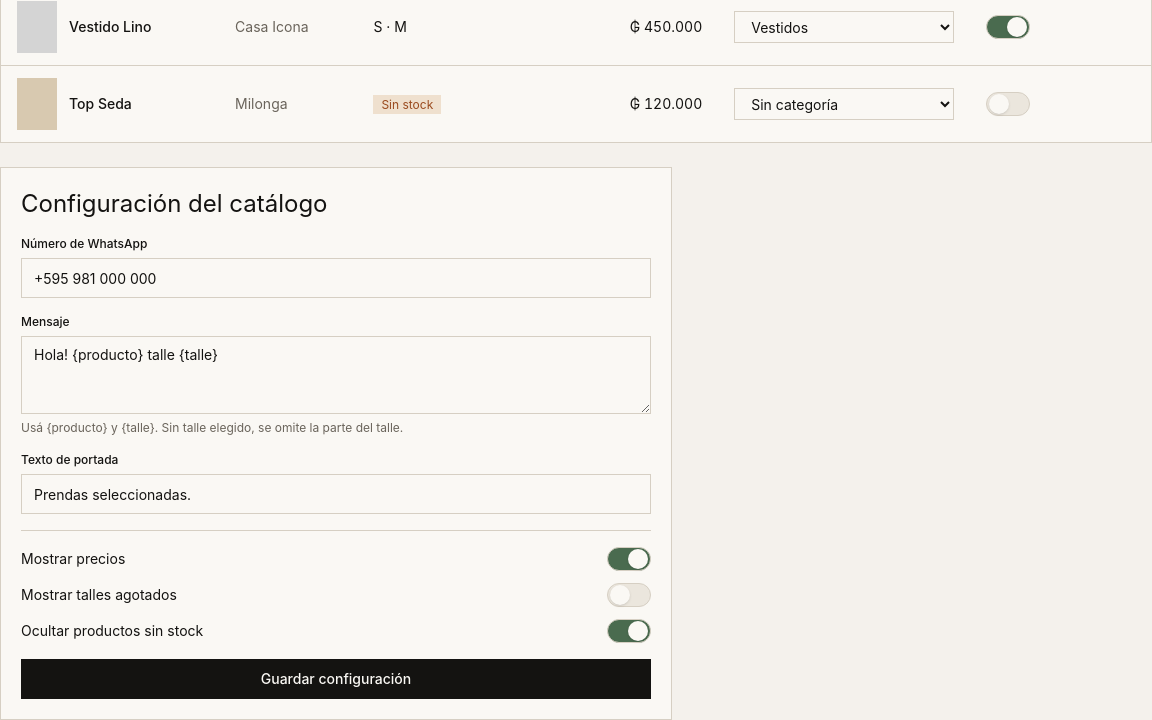
CatalogoWebView › submits the switches as form values
The image size is (1152, 720).
(page scrolled)
Click the switch named "Mostrar talles agotados". click: (629, 595)
box: [607,583,651,607]
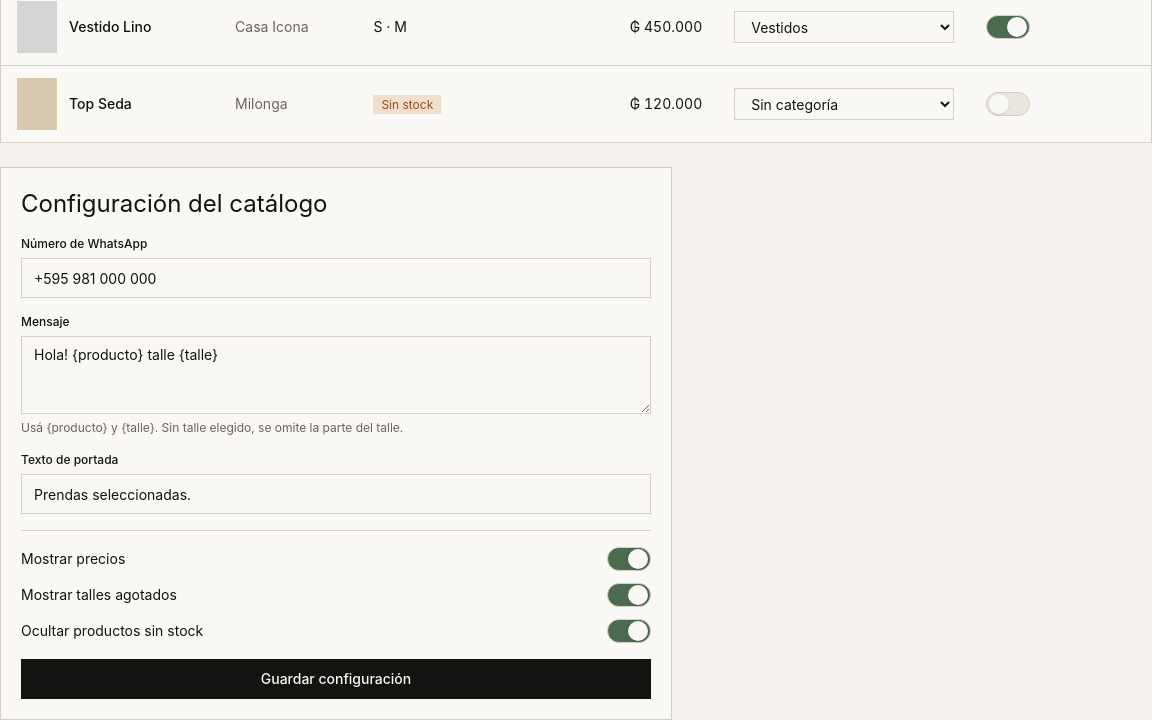
Click the switch named "Mostrar precios". click: (629, 559)
box: [607,547,651,571]
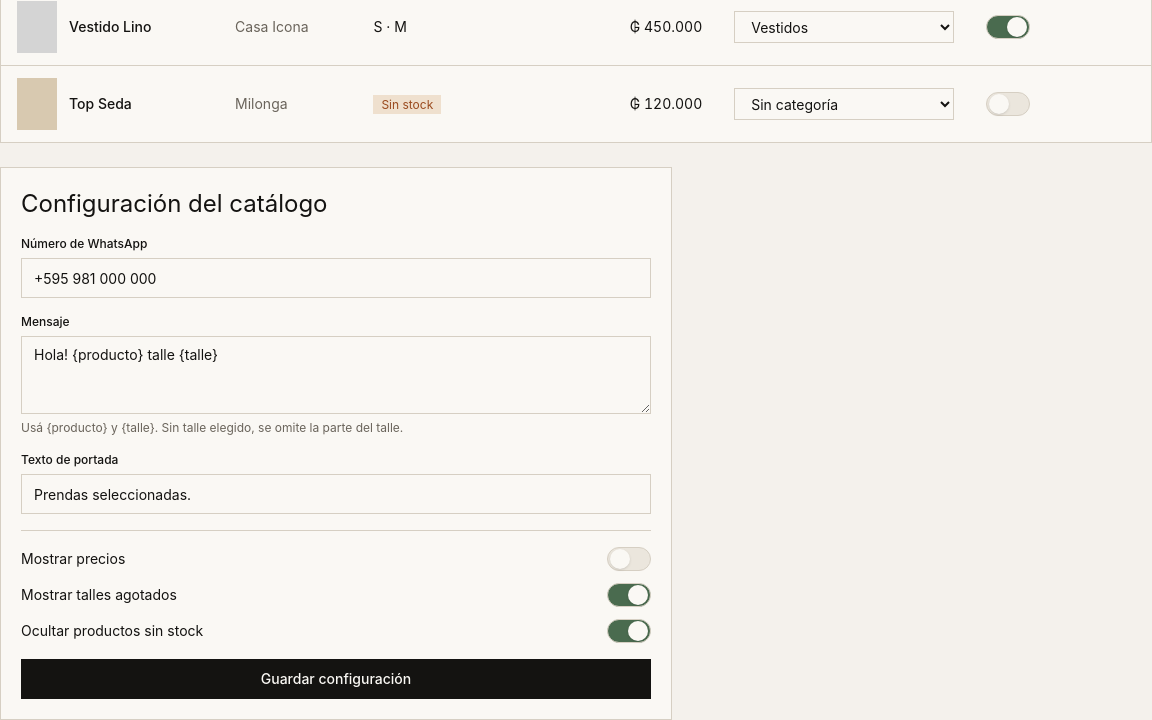
Submit the form named "Guardar configuración", box [0,167,672,719]
(page scrolled)
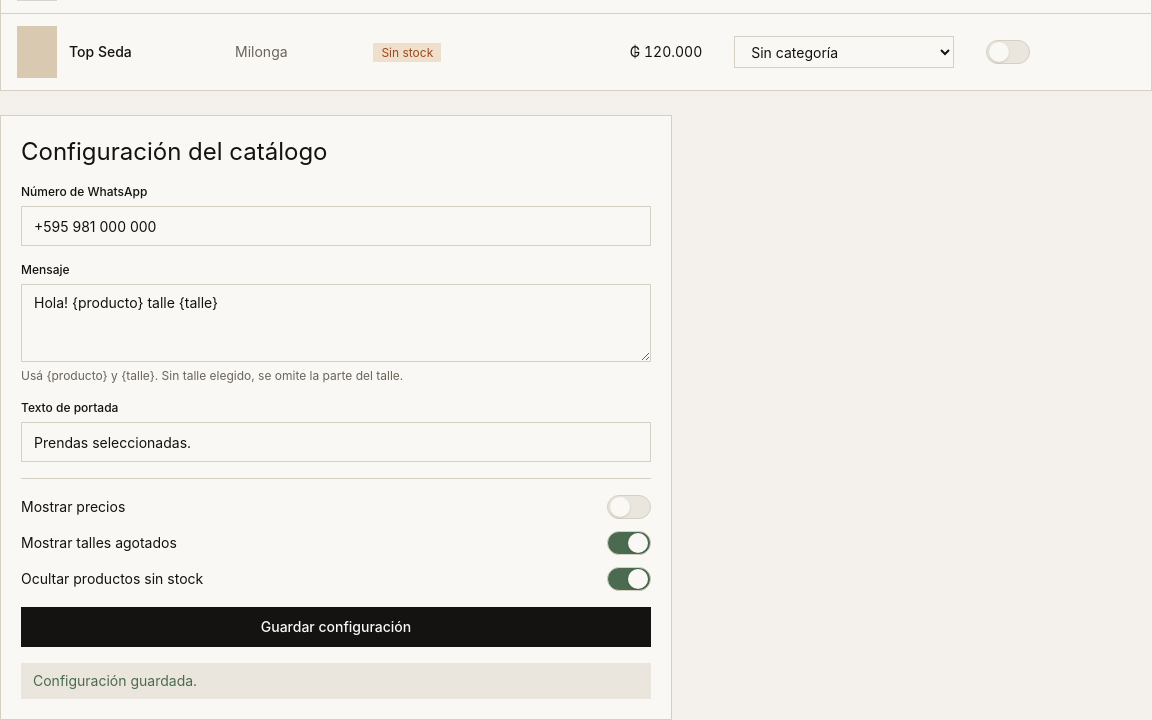
Expected: the message reads "Configuración guardada.", [33,672,197,689]
